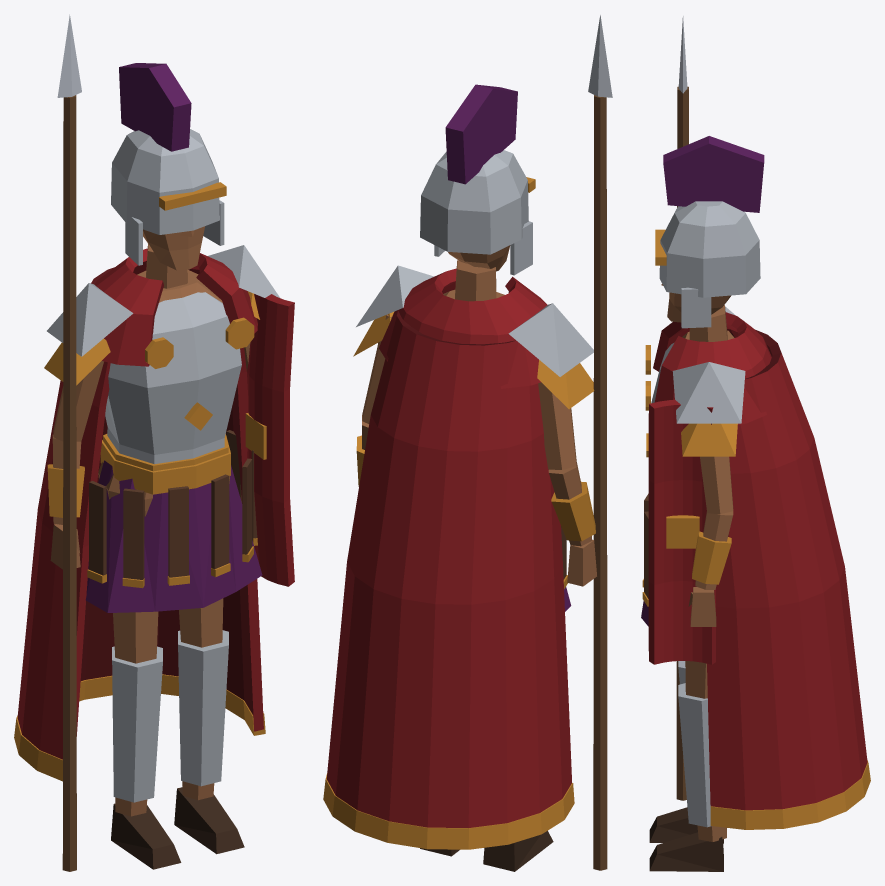
The model's file is cassia.glb.
The picture shows the model from 3 angles, left to right: view 1: azimuth 30°, elevation 25°; view 2: azimuth 150°, elevation 25°; view 3: azimuth 270°, elevation 25°; orthographic projection. The views are drawn at different scales.
Visible parts, largest first — view 1: Cloak, Cuirass, Skirt, Shaft, Shield, Helmet, Greave.001, Greave, Mantle, Crest, CloakHem, Belt (+25 smaller); view 2: Cloak, Shaft, Helmet, Mantle, CloakHem, Crest, Pauldron.002, UpperArm.001, Pauldron, Vambrace.001, Pauldron.003, Foot.001 (+8 smaller); view 3: Cloak, Shield, Helmet, Crest, Mantle, Pauldron, Greave, CloakHem, Foot, Pauldron.001, UpperArm, Shaft (+9 smaller).
Boxes of the visible parts, left/top/right/bottom form: Cloak: left=17, top=267, right=263, bottom=759; Cuirass: left=105, top=292, right=241, bottom=464; Skirt: left=85, top=460, right=262, bottom=612; Shaft: left=62, top=95, right=76, bottom=871; Shield: left=247, top=294, right=294, bottom=586; Helmet: left=111, top=129, right=219, bottom=234; Greave.001: left=112, top=646, right=162, bottom=802; Greave: left=178, top=630, right=228, bottom=786; Mantle: left=94, top=248, right=257, bottom=366; Crest: left=119, top=63, right=191, bottom=151; CloakHem: left=14, top=674, right=265, bottom=781; Belt: left=100, top=434, right=230, bottom=494; Cloak: left=326, top=310, right=571, bottom=827; Shaft: left=593, top=95, right=607, bottom=870; Helmet: left=420, top=150, right=528, bottom=254; Mantle: left=379, top=268, right=547, bottom=388; CloakHem: left=323, top=773, right=574, bottom=849; Crest: left=445, top=84, right=517, bottom=184; Pauldron.002: left=508, top=303, right=593, bottom=376; UpperArm.001: left=538, top=382, right=576, bottom=469; Pauldron: left=356, top=265, right=433, bottom=326; Vambrace.001: left=551, top=481, right=595, bottom=541; Pauldron.003: left=537, top=360, right=594, bottom=409; Foot.001: left=483, top=830, right=553, bottom=871; Cloak: left=707, top=329, right=867, bottom=810; Shield: left=648, top=399, right=715, bottom=664; Helmet: left=659, top=201, right=760, bottom=297; Crest: left=663, top=136, right=764, bottom=212; Mantle: left=653, top=312, right=771, bottom=424; Pauldron: left=672, top=362, right=745, bottom=423; Greave: left=678, top=683, right=711, bottom=827; CloakHem: left=710, top=760, right=870, bottom=829; Foot: left=649, top=832, right=723, bottom=871; Pauldron.001: left=681, top=423, right=737, bottom=456; UpperArm: left=700, top=456, right=733, bottom=514; Shaft: left=676, top=86, right=688, bottom=800.
Size of the model in its own units: 0.6872 by 2.33 by 0.6168.
